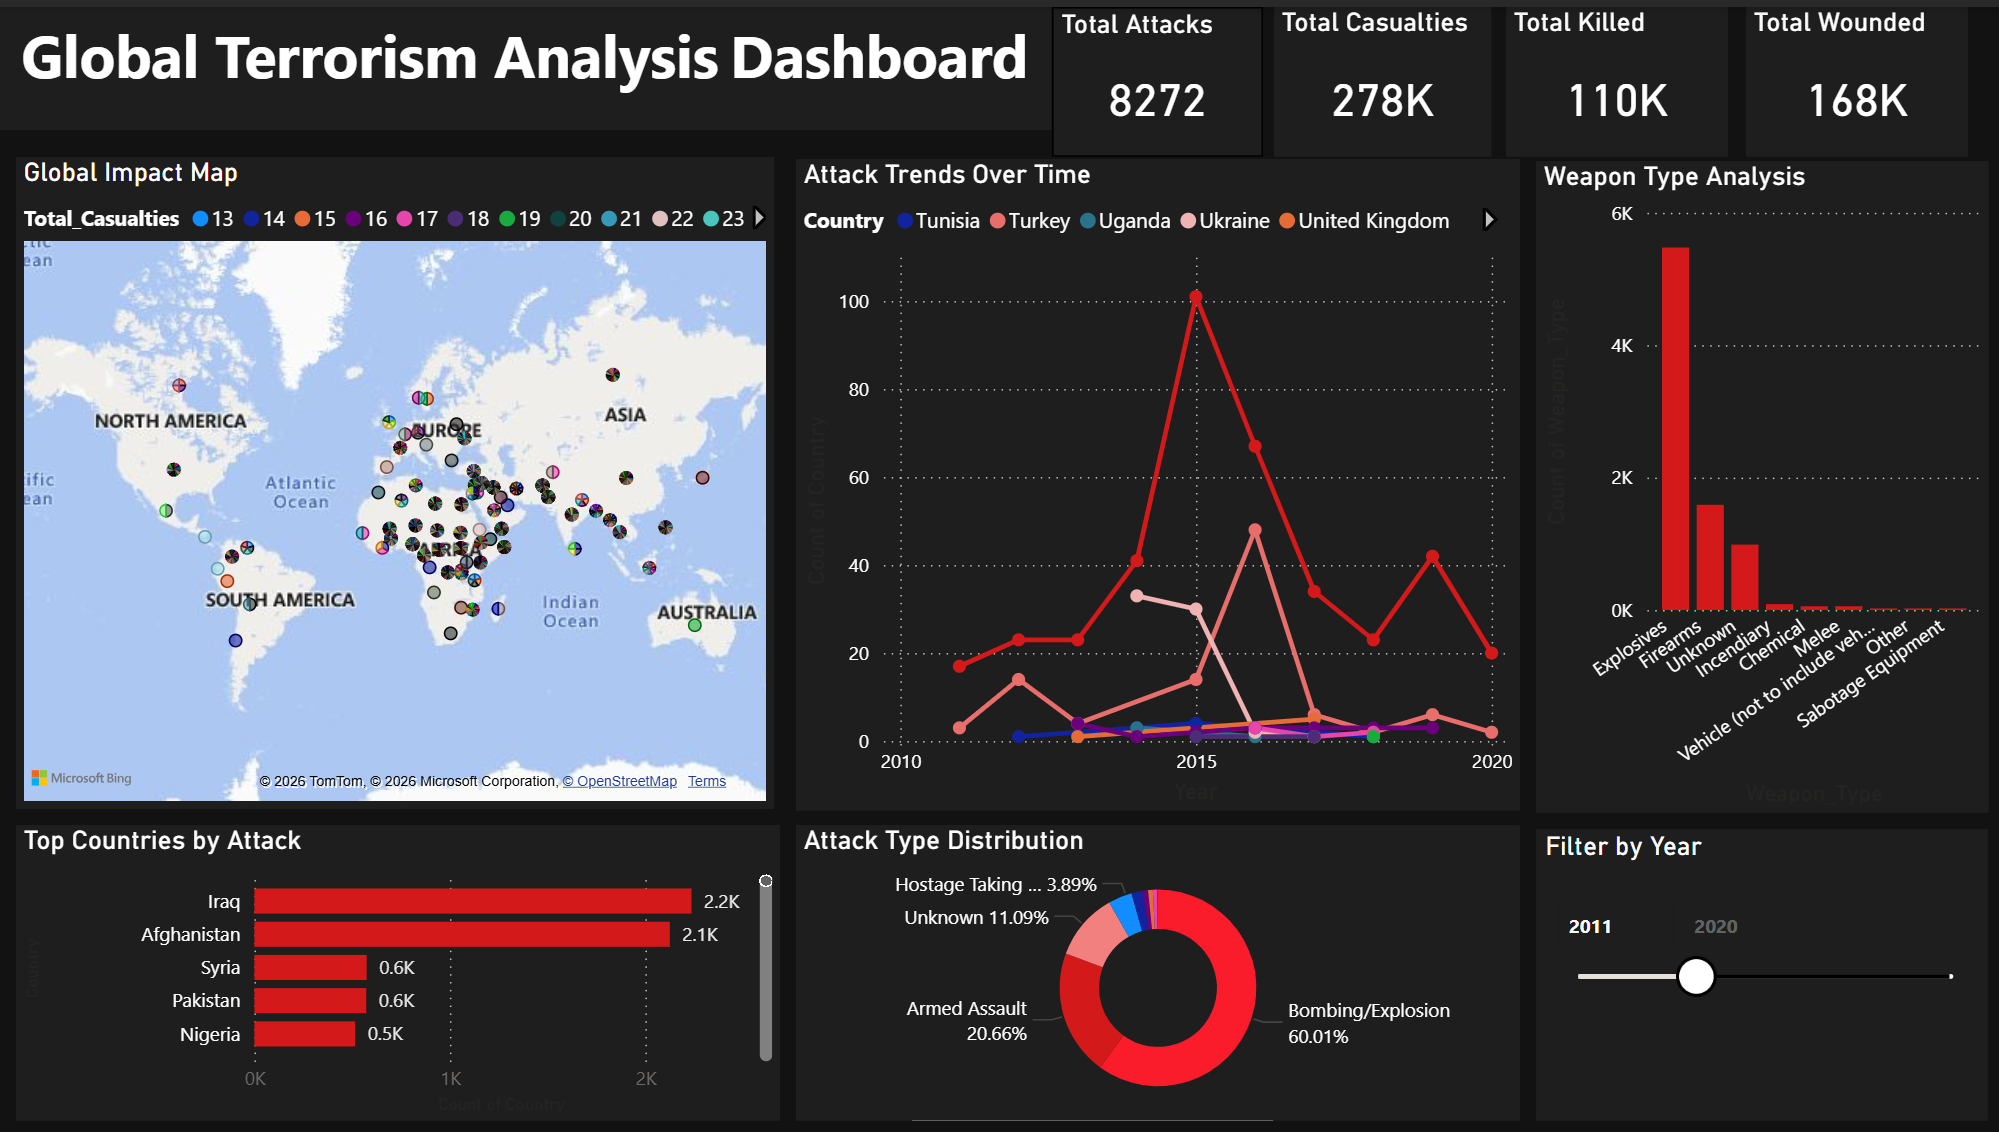

The page's visual inventory and layout, read from the dashboard file:
{"tool":"powerbi","page":{"name":"Page 1","canvas":[1280,720],"ordinal":0},"visuals":[{"type":"map","title":"Global Impact Map","fields":{"Category":["Data.Country"],"Series":["Data.Total_Casualties"]},"box":[11.4,95.7,482.9,415.7],"z":0},{"type":"lineChart","title":"Attack Trends Over Time","fields":{"Category":["Data.Year"],"Series":["Data.Country"],"Y":["CountNonNull(Data.Country)"]},"box":[508.6,97.1,461.4,415.7],"z":1000},{"type":"slicer","fields":{"Values":["Data.Year"]},"box":[582.9,617.1,230,92.9],"z":2000},{"type":"textbox","box":[0,0,671.4,78.6],"z":3000},{"type":"card","title":"Total Attacks","fields":{"Values":["CountNonNull(Data.Country)"]},"box":[671.4,0,134.3,95.7],"z":4000},{"type":"card","title":"Total Casualties","fields":{"Values":["Sum(Data.Total_Casualties)"]},"box":[812.9,0,138.6,95.7],"z":5000},{"type":"card","title":"Total Killed","fields":{"Values":["Sum(Data.Killed)"]},"box":[961.4,0,141.4,95.7],"z":6000},{"type":"card","title":"Total Wounded","fields":{"Values":["Sum(Data.Wounded)"]},"box":[1114.3,0,141.4,95.7],"z":7000},{"type":"clusteredBarChart","title":"Top Countries by Attack","fields":{"Category":["Data.Country"],"Y":["CountNonNull(Data.Country)"]},"box":[11.4,521.4,487.1,188.6],"z":8000},{"type":"donutChart","title":"Attack Type Distribution","fields":{"Category":["Data.Attack_Type"],"Y":["CountNonNull(Data.Attack_Type)"]},"box":[508.7,521.4,461.5,188.7],"z":9000},{"type":"clusteredColumnChart","title":"Weapon Type Analysis","fields":{"Category":["Data.Weapon_Type"],"Y":["CountNonNull(Data.Weapon_Type)"]},"box":[980,98.6,288.6,415.7],"z":10000},{"type":"slicer","title":"Filter by Year","fields":{"Values":["Data.Year"]},"box":[980.4,524,288.1,186.1],"z":11000}]}

Visuals, with their boxes in screenshot pixels (x1, y1, x2, y2), scaled from the page's 1280x720 canvas onto the 1999x1132 screenshot:
"Global Impact Map" map: [x1=18, y1=150, x2=772, y2=804]
"Attack Trends Over Time" lineChart: [x1=794, y1=153, x2=1515, y2=806]
slicer - Data.Year: [x1=910, y1=970, x2=1270, y2=1116]
textbox: [x1=0, y1=0, x2=1049, y2=124]
"Total Attacks" card: [x1=1049, y1=0, x2=1258, y2=150]
"Total Casualties" card: [x1=1270, y1=0, x2=1486, y2=150]
"Total Killed" card: [x1=1501, y1=0, x2=1722, y2=150]
"Total Wounded" card: [x1=1740, y1=0, x2=1961, y2=150]
"Top Countries by Attack" clusteredBarChart: [x1=18, y1=820, x2=779, y2=1116]
"Attack Type Distribution" donutChart: [x1=794, y1=820, x2=1515, y2=1116]
"Weapon Type Analysis" clusteredColumnChart: [x1=1530, y1=155, x2=1981, y2=809]
"Filter by Year" slicer: [x1=1531, y1=824, x2=1981, y2=1116]
